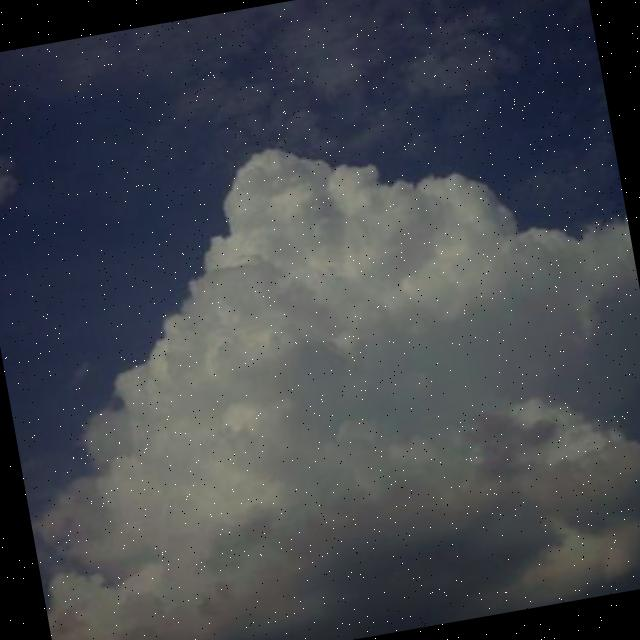Cu: (1, 30, 640, 580)
